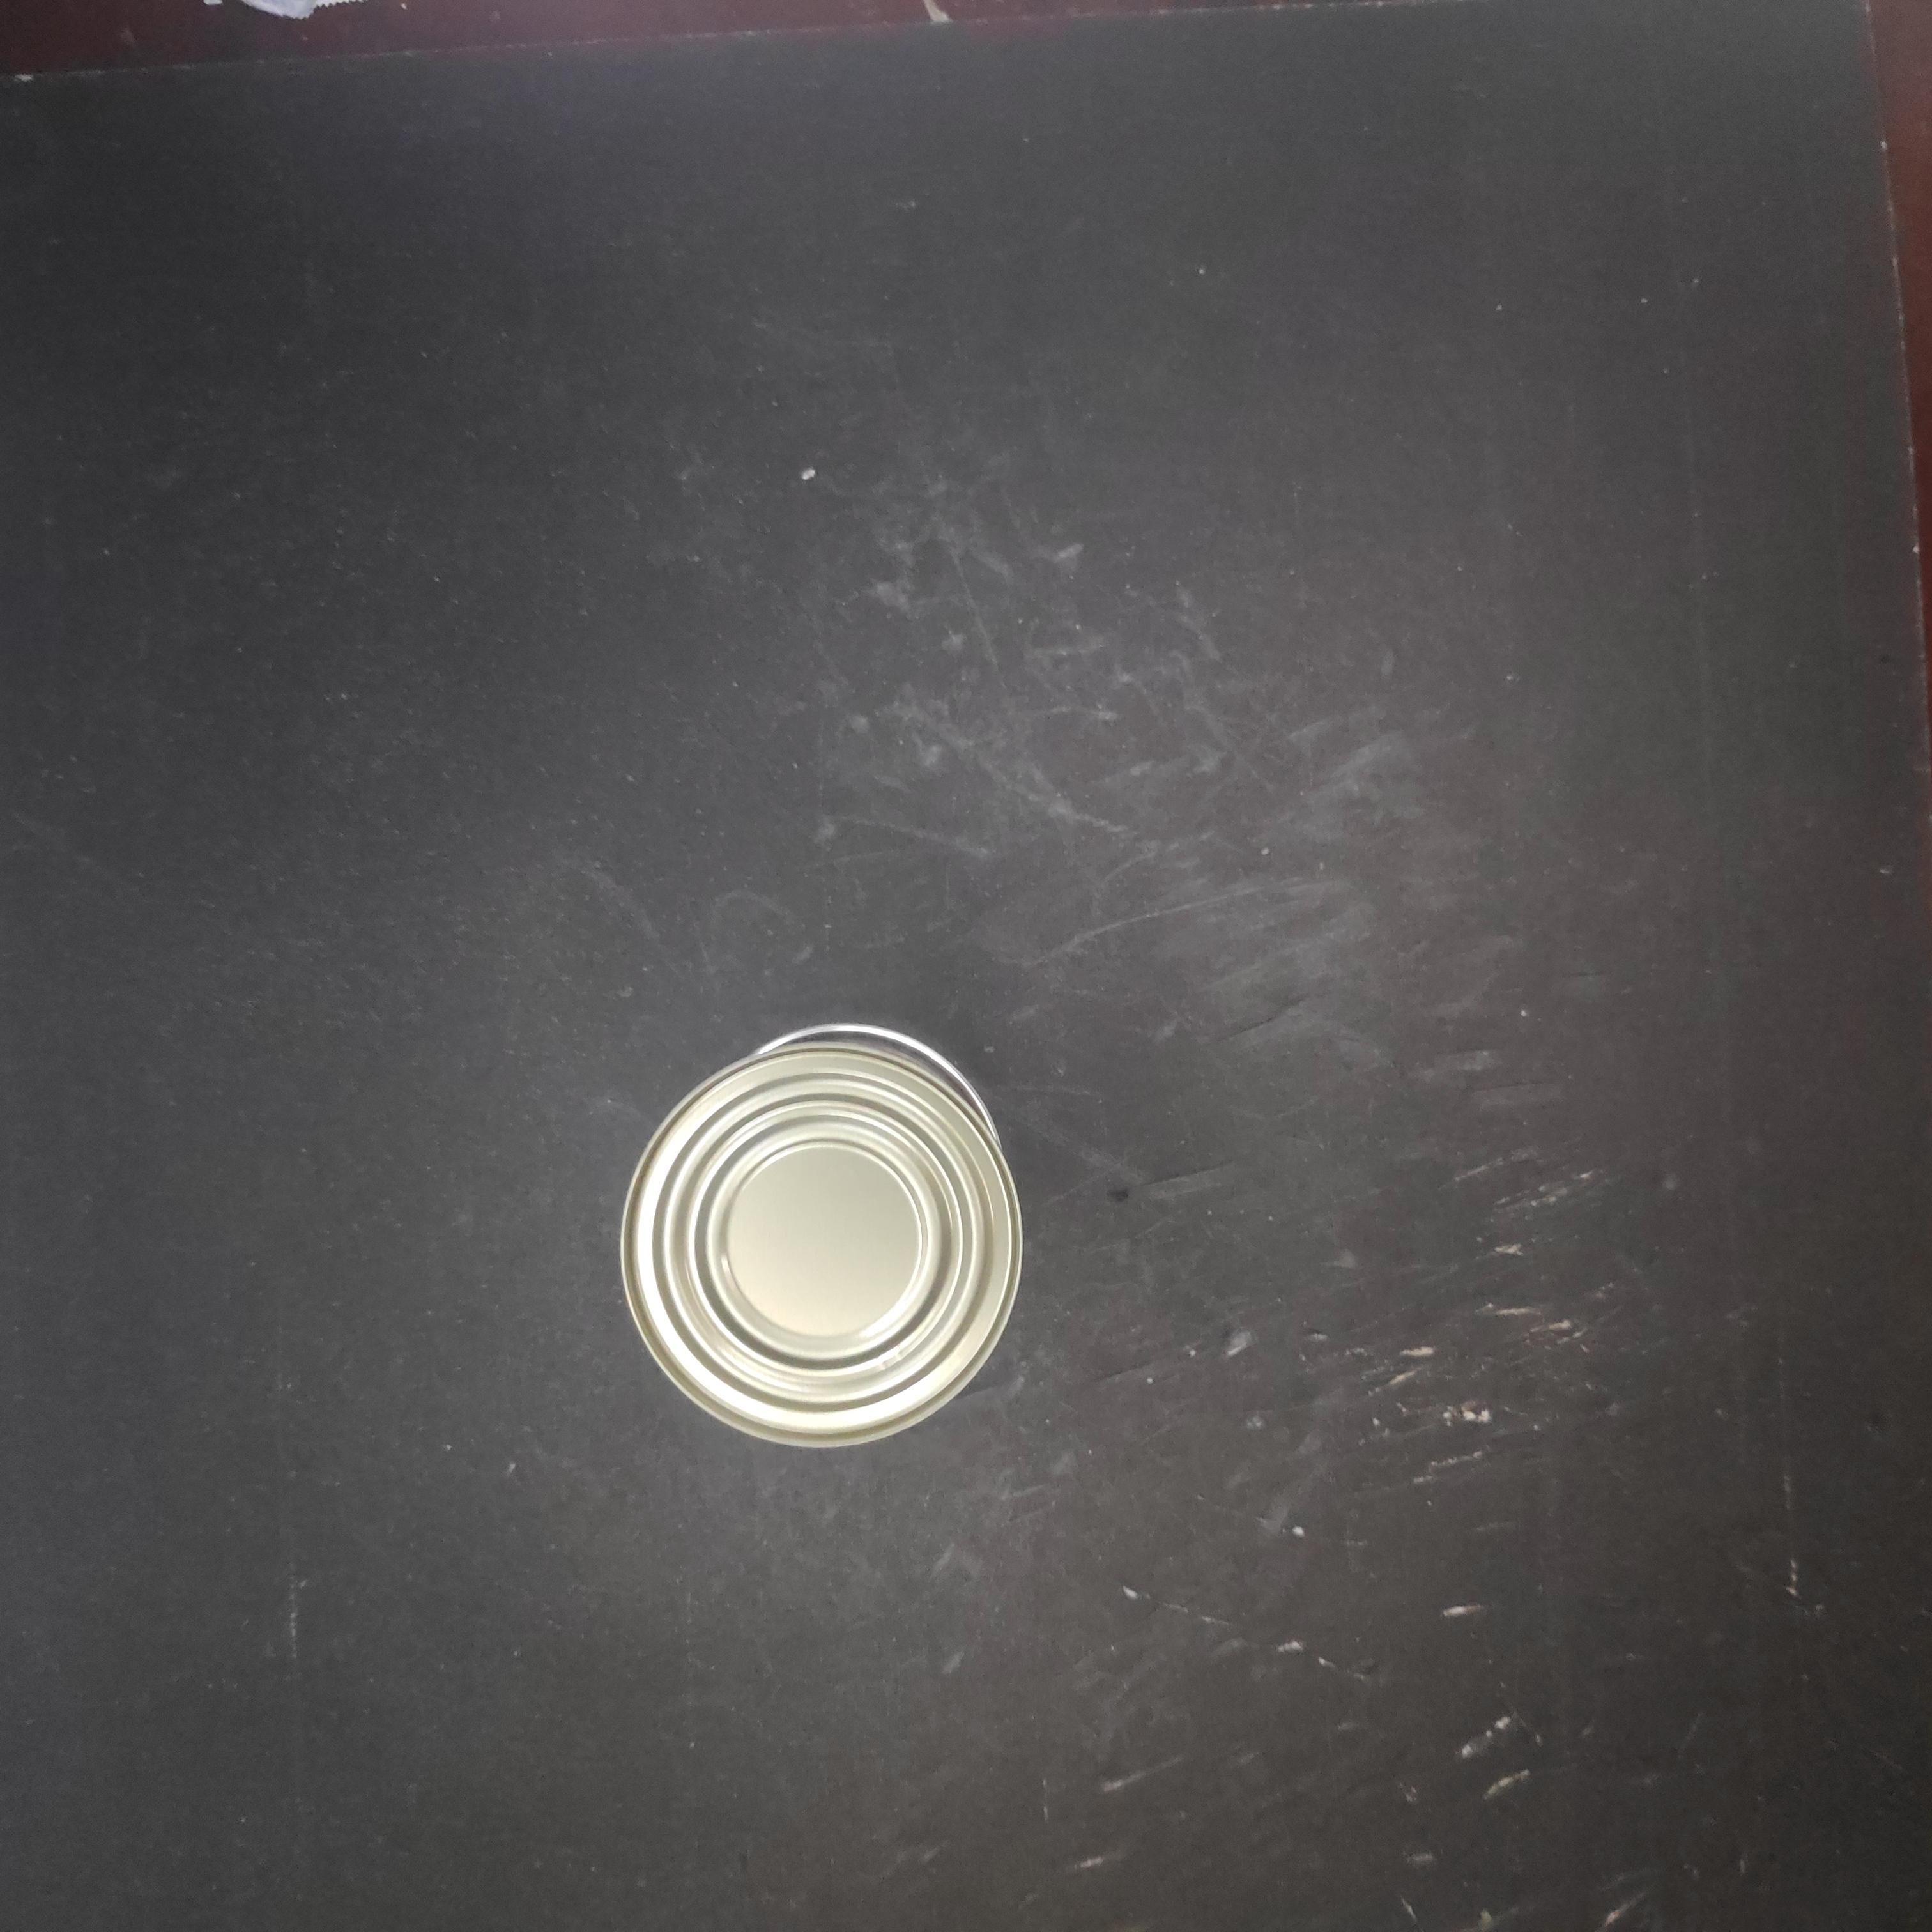No defect: (482, 617, 911, 1025)
